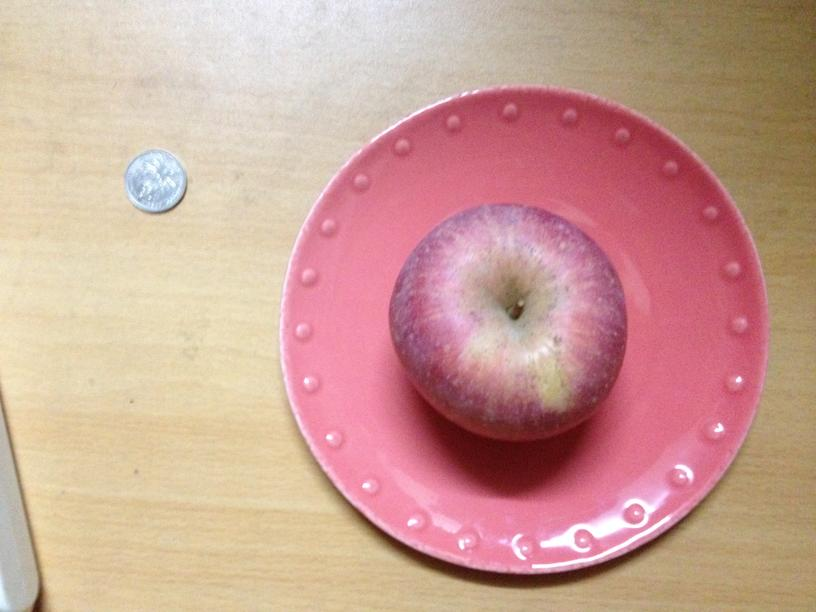apple: (387, 203, 624, 436)
coin: (121, 150, 186, 213)
